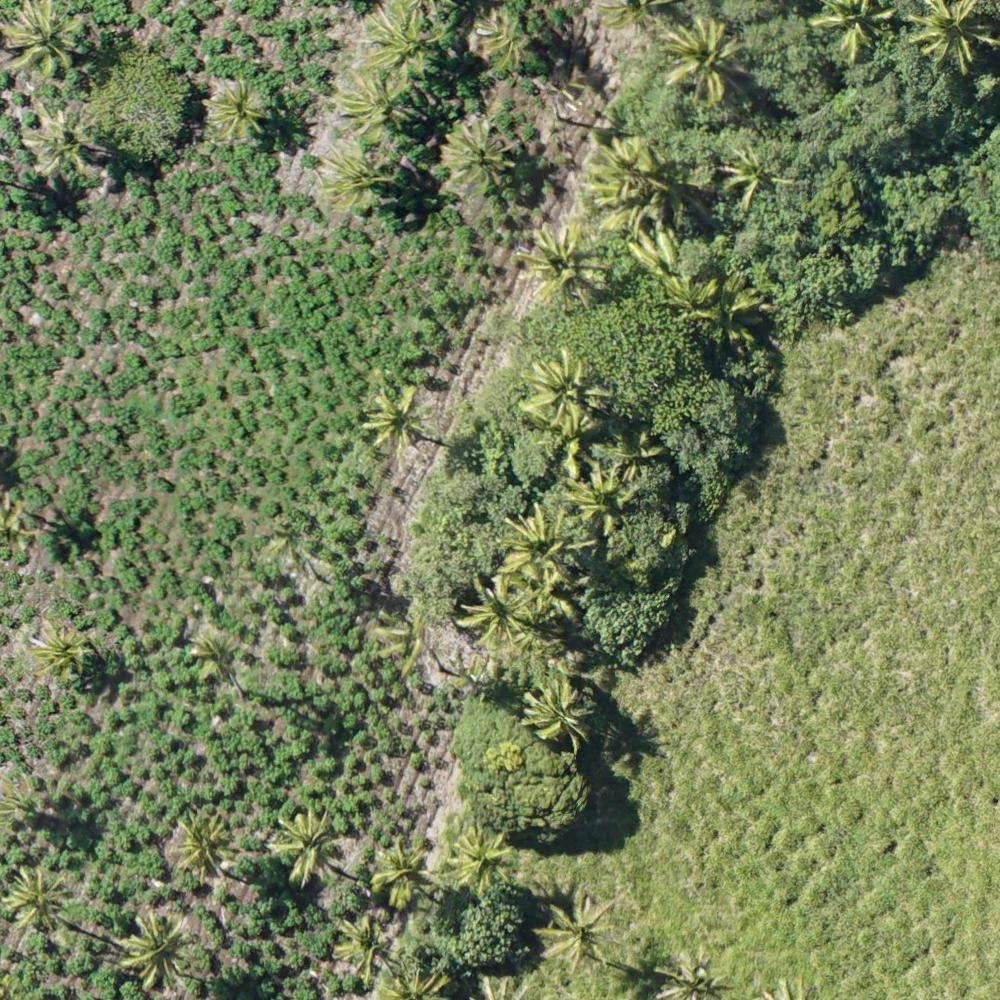Palm: (514, 226, 606, 314), (584, 140, 669, 226), (525, 350, 607, 432), (662, 18, 745, 99), (536, 891, 617, 974), (909, 1, 995, 77), (1, 1, 84, 76), (506, 506, 586, 582), (362, 4, 442, 79), (118, 908, 195, 985), (337, 71, 414, 144), (443, 116, 513, 196), (459, 579, 531, 655), (368, 832, 437, 911), (268, 806, 339, 882), (809, 1, 897, 59), (316, 152, 392, 216), (564, 464, 633, 534), (366, 385, 431, 458), (23, 109, 96, 173), (524, 681, 589, 748), (448, 825, 513, 891), (206, 77, 265, 146), (5, 865, 66, 930), (173, 814, 233, 878), (331, 914, 389, 978), (26, 623, 85, 682), (192, 628, 242, 682)
